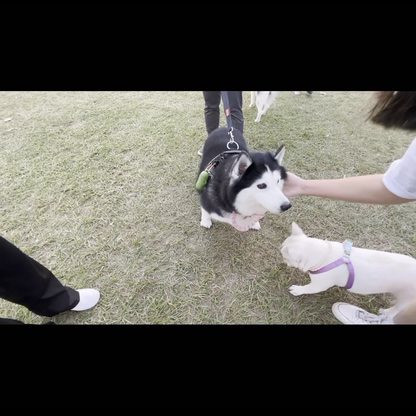husky: (193, 124, 294, 234)
